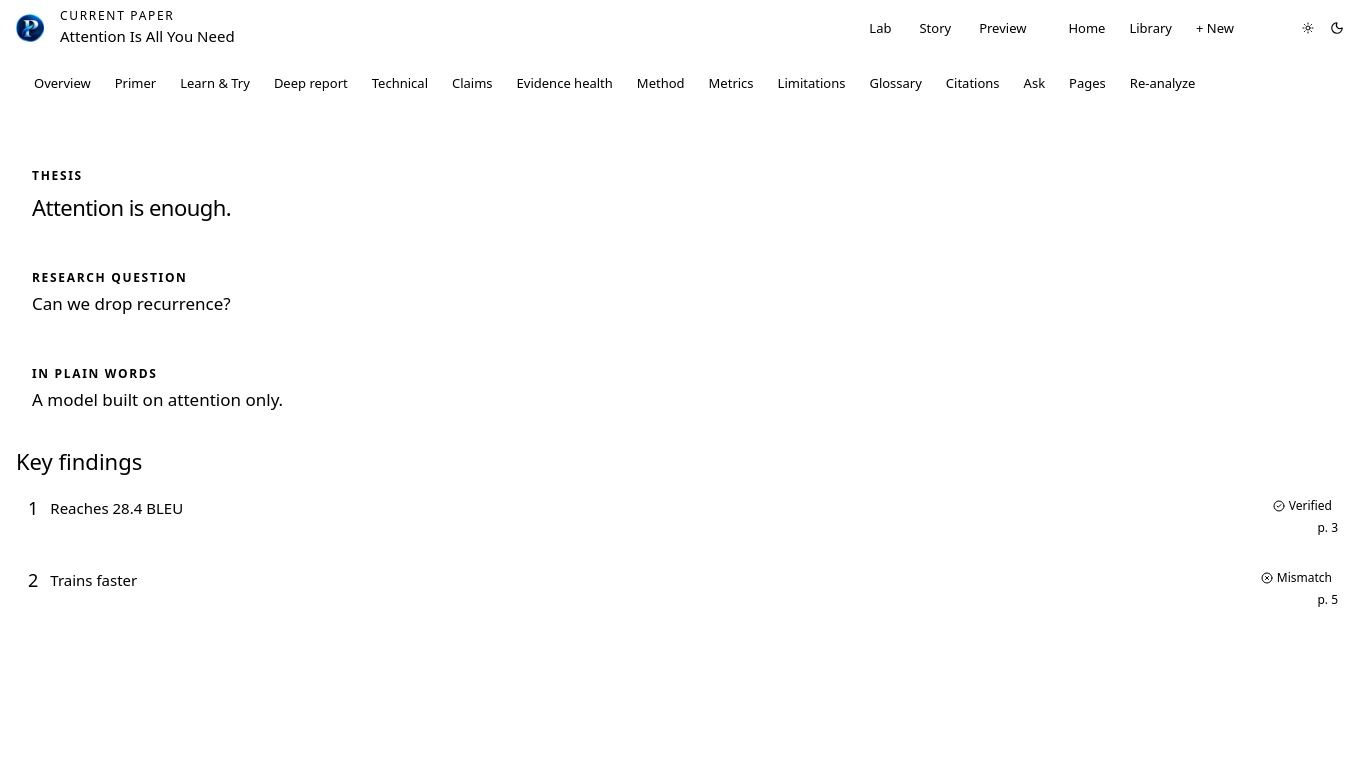
Test: Lab › opens the first claim on a metric's page
This screenshot has width=1366, height=768.
Expected: the element named "Studio mode" is shown, left=853, top=13, right=1042, bottom=43
Expected: the text "Attention is enough." is shown, left=32, top=192, right=231, bottom=222
Click the button "Metrics" at x=731, y=83, box left=699, top=68, right=764, bottom=98
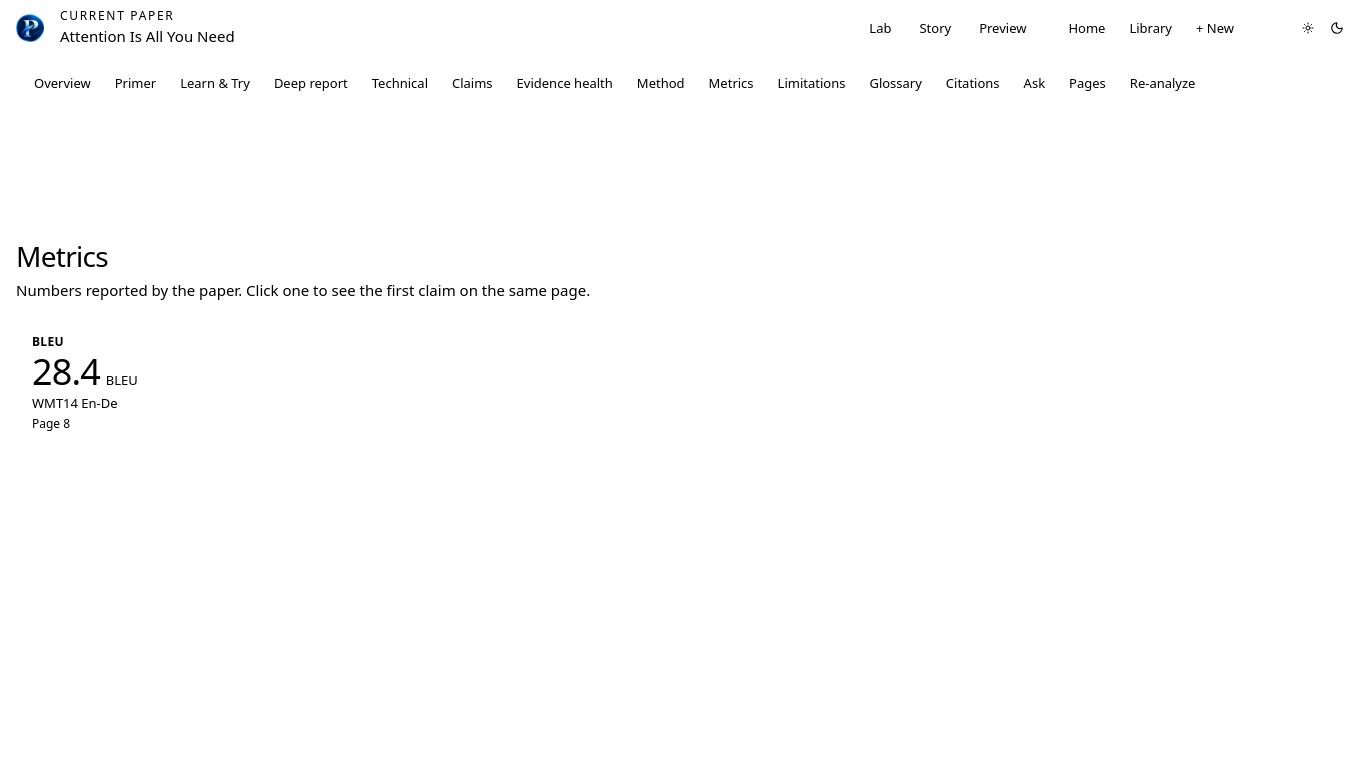
Now the text "Page 8" is shown, box left=32, top=416, right=70, bottom=432
Now the button "BLEU 28.4 BLEU WMT14 En-De Page 8" is disabled, box left=16, top=318, right=1350, bottom=448
